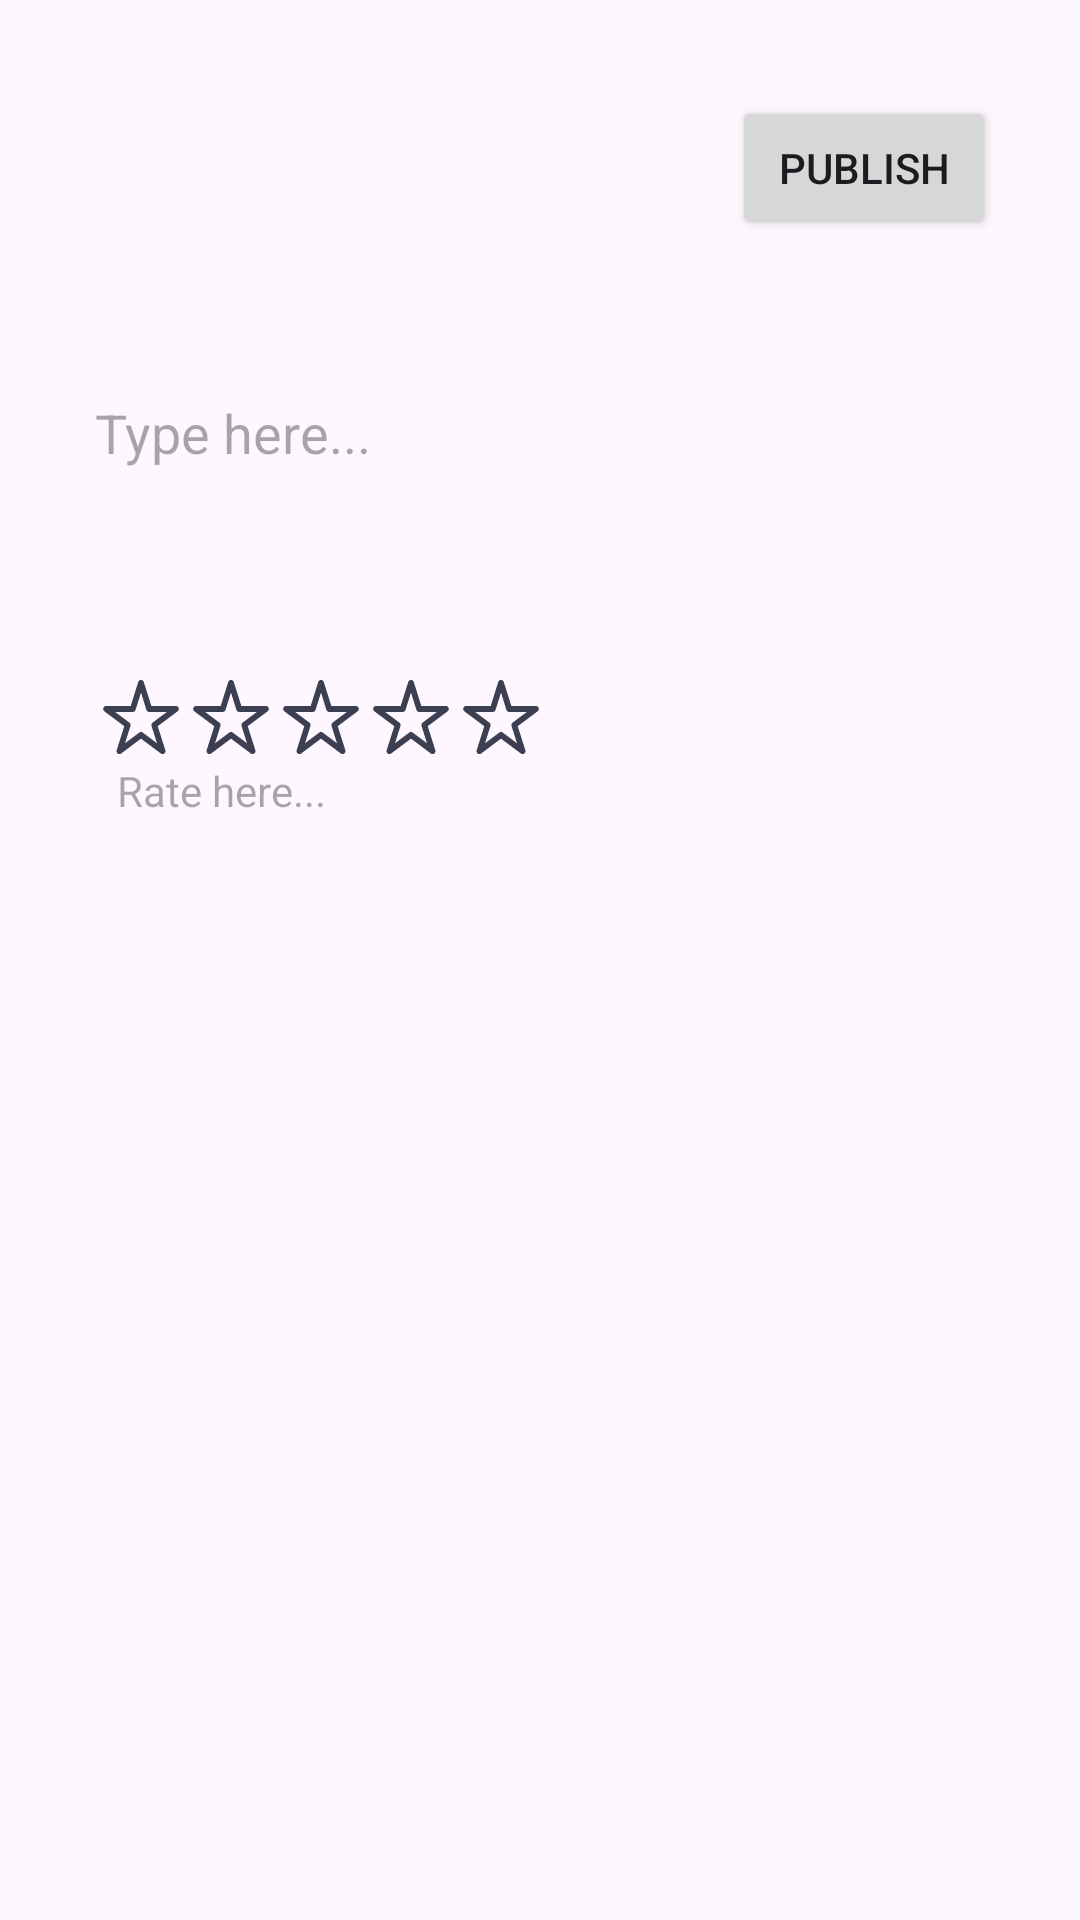

Locate icon controls on the screen. Image size 1080 × 1920, boxes as (x1, y1, x2, y2).
Star: (103, 680, 179, 754), (193, 680, 269, 754), (283, 680, 359, 754), (373, 680, 449, 754), (463, 680, 539, 754)
